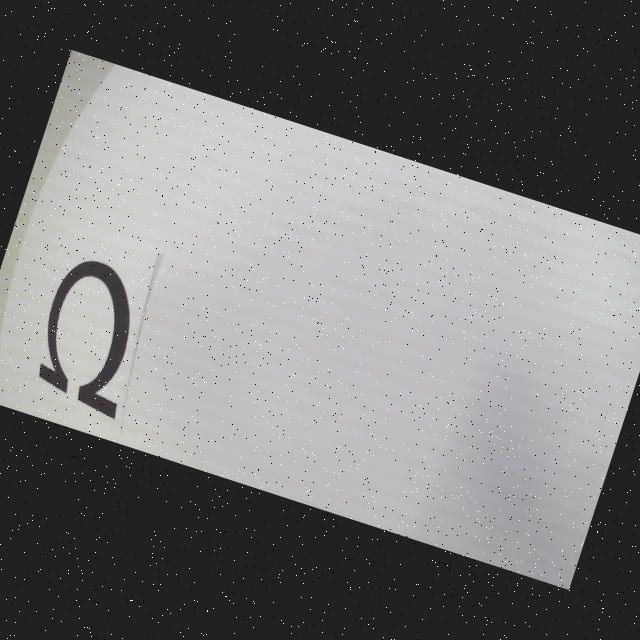OMEGA: (23, 252, 160, 421)
